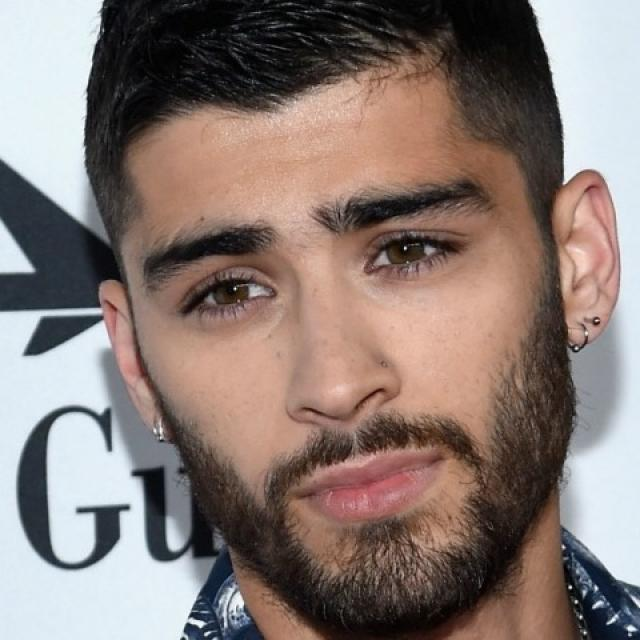Depress: (113, 52, 578, 633)
